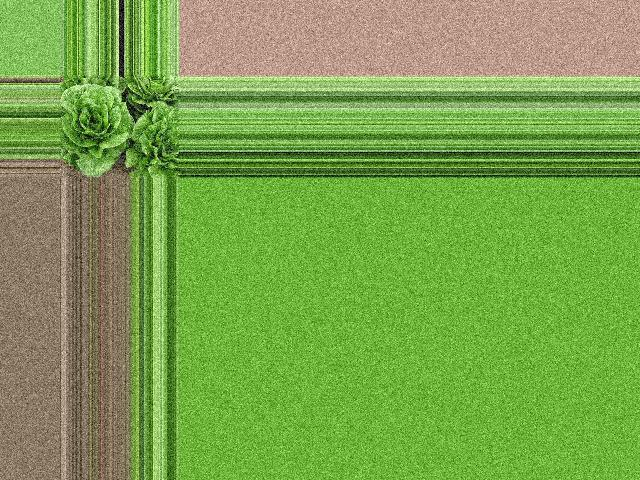lettuce: (132, 101, 180, 175)
